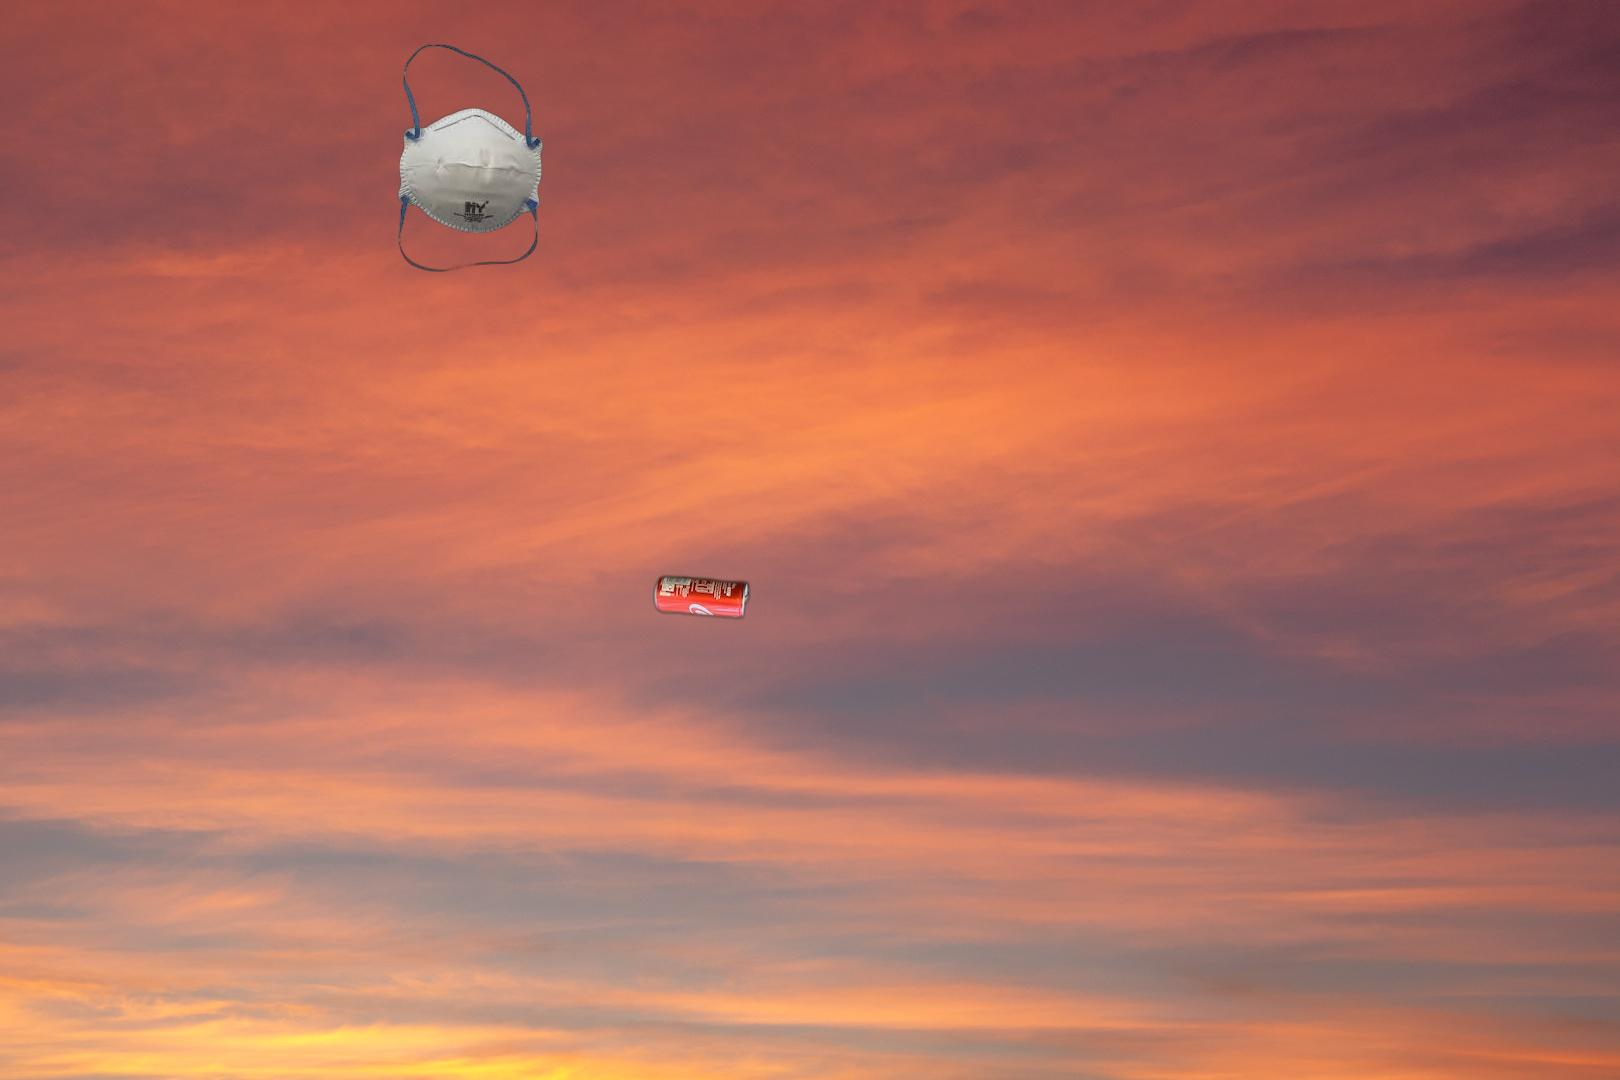metal-cans: (648, 570, 755, 624)
trash: (395, 42, 546, 275)
